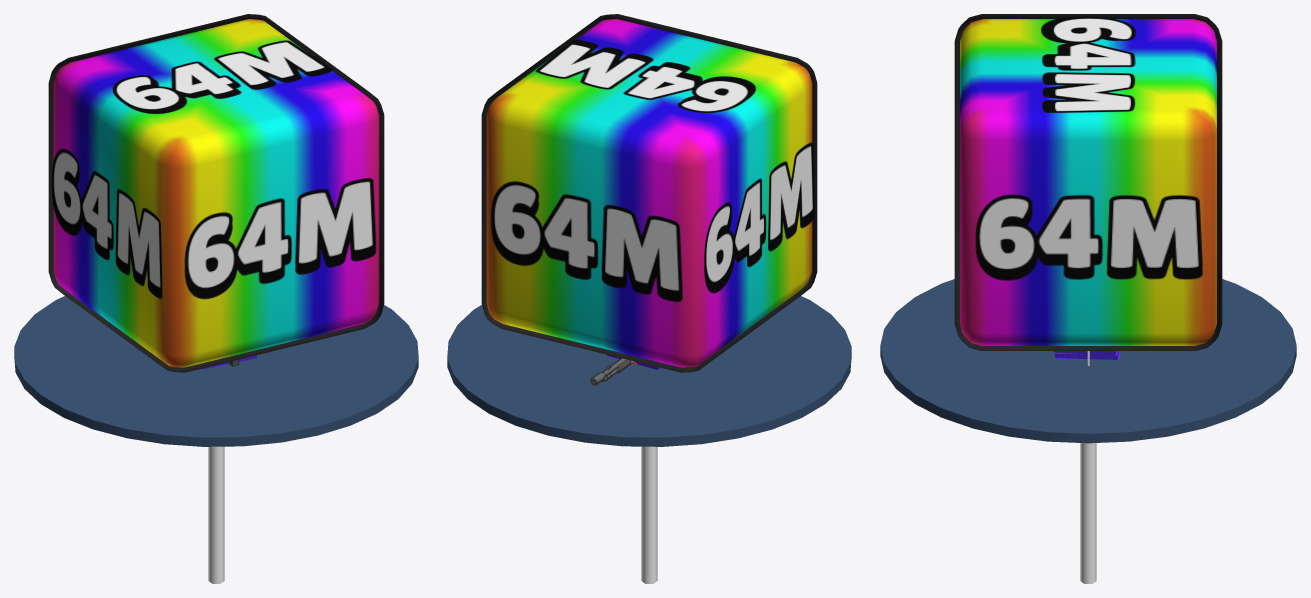
The model's file is GunUp_Map.glb.
The picture shows the model from 3 angles, left to right: view 1: azimuth 30°, elevation 25°; view 2: azimuth 150°, elevation 25°; view 3: azimuth 270°, elevation 25°; orthographic projection. The views are drawn at different scales.
Visible parts, largest first — view 1: Cube64M_mesh, Platform_final, Cube64M_outline, Platform_cubes; view 2: Cube64M_mesh, Platform_final, Cube64M_outline, Platform_cubes; view 3: Cube64M_mesh, Platform_final, Cube64M_outline, Platform_cubes, TwistedCube.
Boxes of the visible parts, bbox=[...] form: Cube64M_mesh: bbox=[51, 19, 379, 367]; Platform_final: bbox=[14, 296, 418, 446]; Cube64M_outline: bbox=[48, 14, 384, 372]; Platform_cubes: bbox=[208, 446, 224, 583]; Cube64M_mesh: bbox=[486, 19, 814, 367]; Platform_final: bbox=[447, 296, 851, 446]; Cube64M_outline: bbox=[481, 14, 817, 372]; Platform_cubes: bbox=[641, 446, 657, 583]; Cube64M_mesh: bbox=[960, 17, 1216, 345]; Platform_final: bbox=[880, 279, 1296, 443]; Cube64M_outline: bbox=[954, 14, 1222, 350]; Platform_cubes: bbox=[1080, 443, 1096, 583]; TwistedCube: bbox=[1053, 351, 1119, 359].
Size of the model in its own units: 4 by 5.51 by 4.
Materials: 6 (5 with a texture image).
